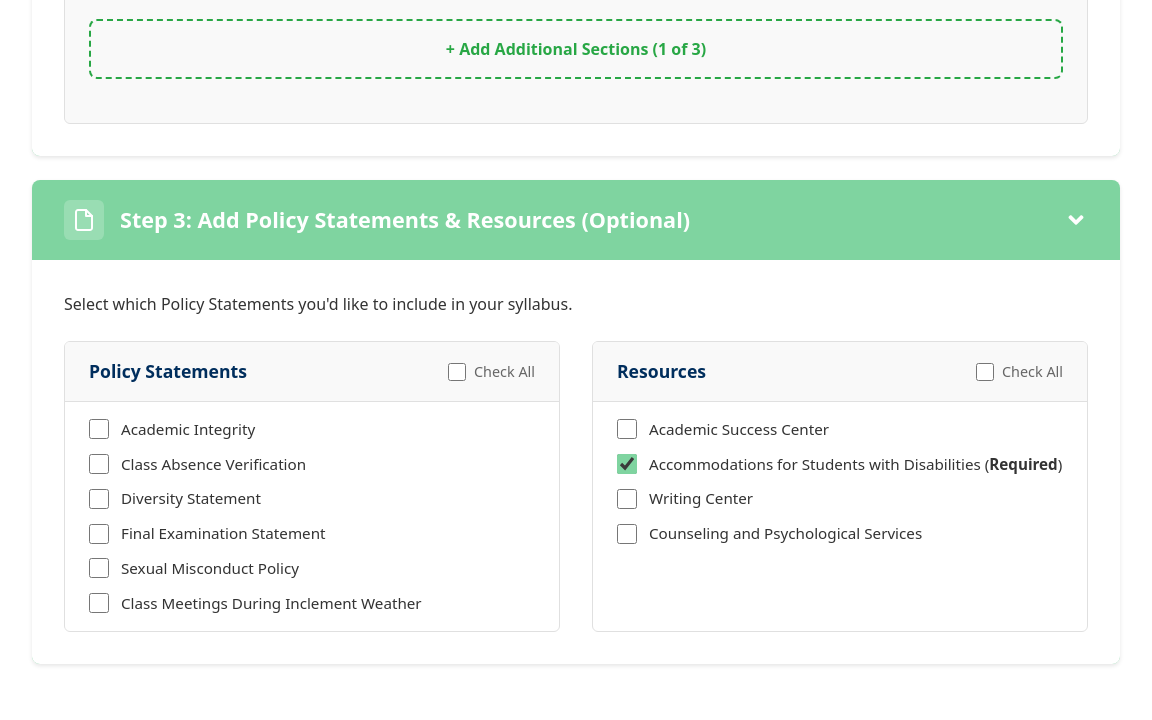
Checklist › Check All clears every policy when all are selected
The width and height of the screenshot is (1152, 720).
(page scrolled)
Click the checkbox named "Check all policy statements": (457, 372) [448,362,466,380]
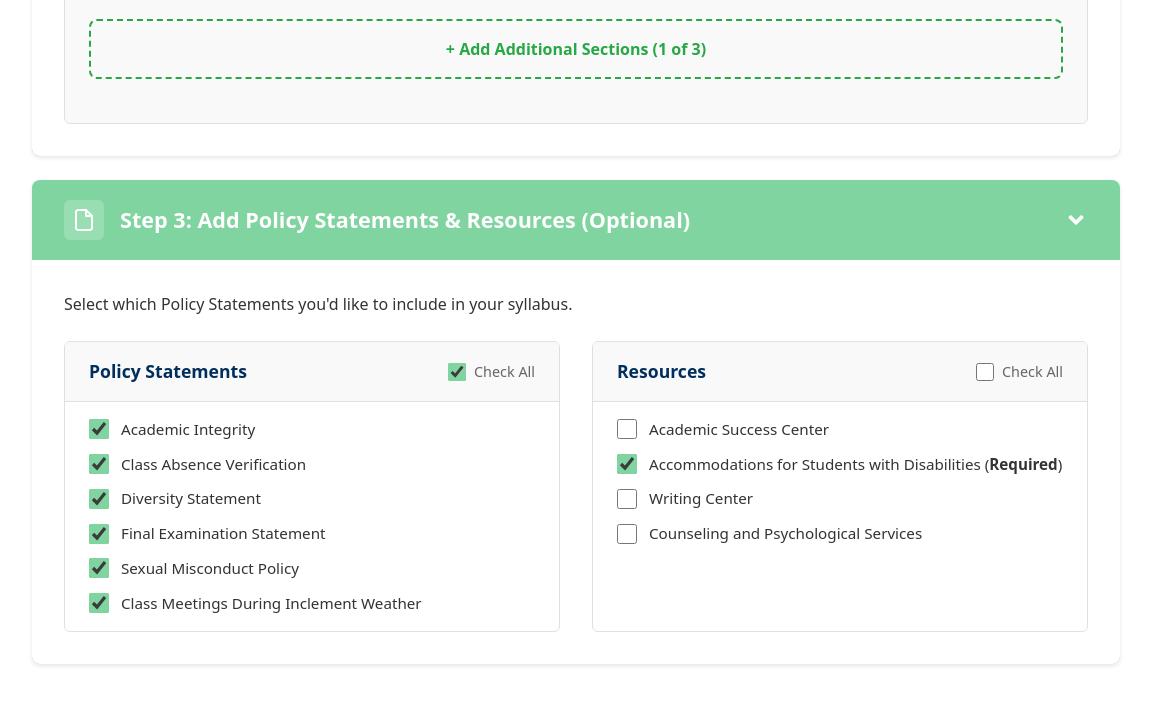
expect the checkbox named "Check all policy statements" is checked: met
Click the checkbox named "Check all policy statements": (457, 372) [448,362,466,380]
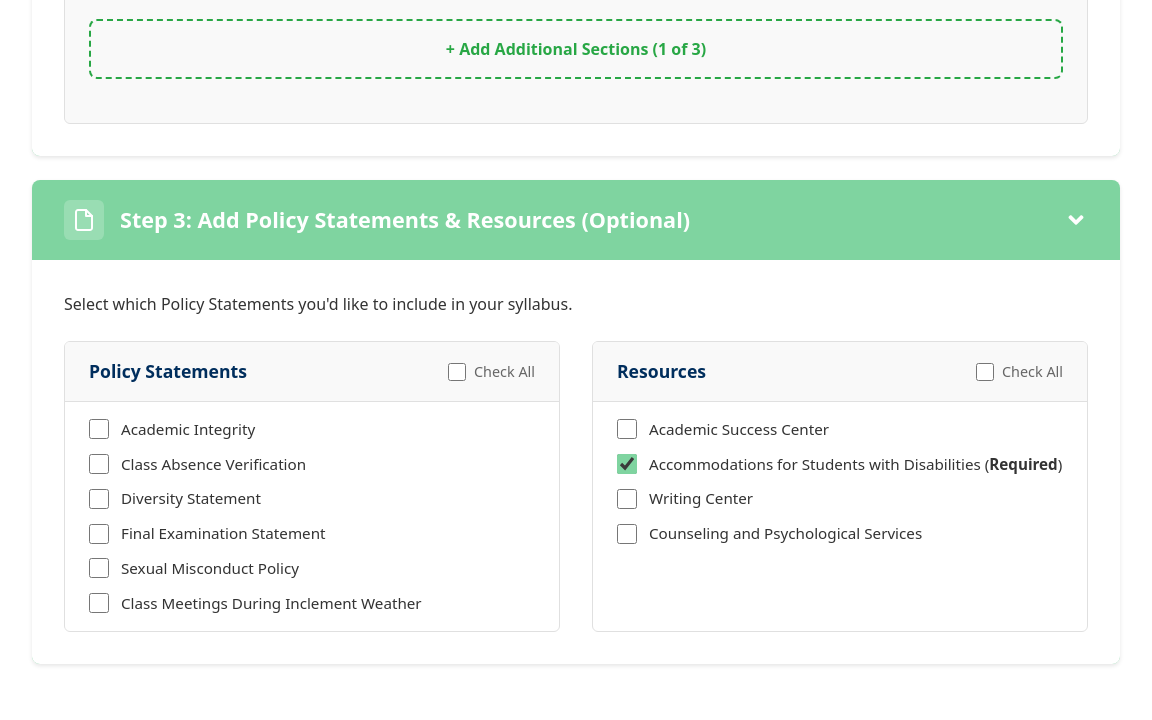
expect the checkbox named "Check all policy statements" is not checked: met, box [448,362,466,380]
expect the checkbox showing "Academic Integrity" is not checked: met, box [89,419,109,439]
